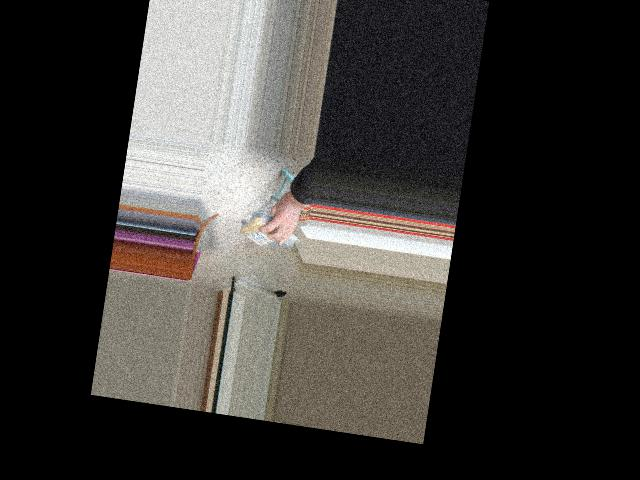cheese: (238, 214, 302, 252)
